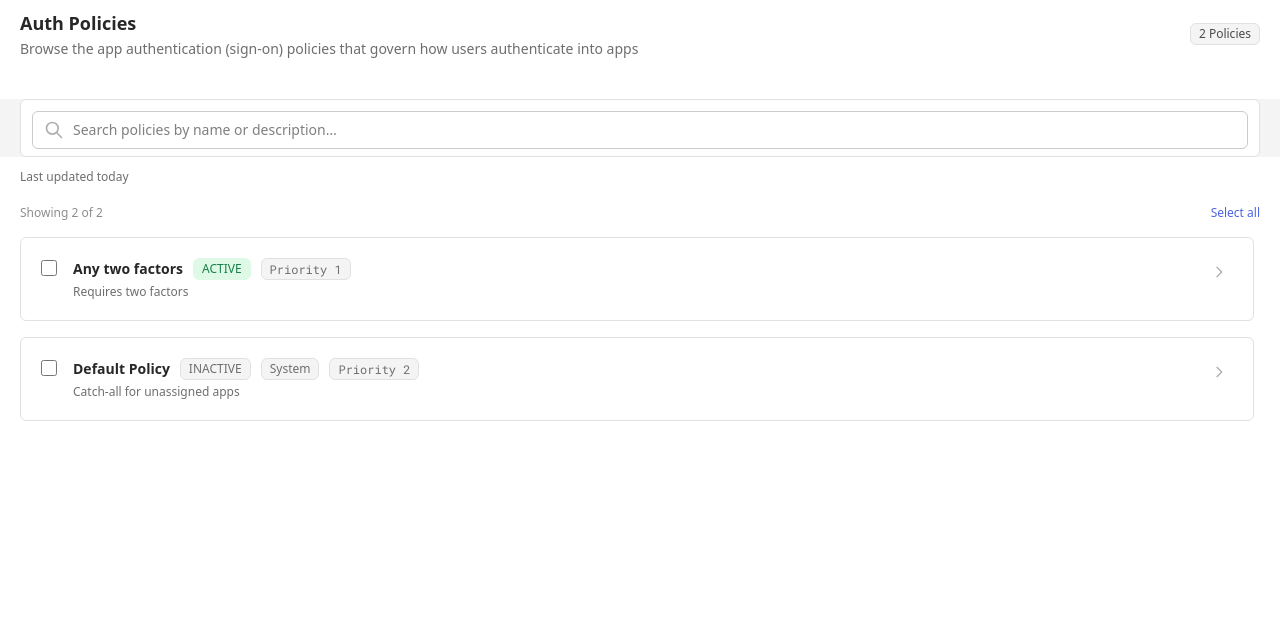
AuthPoliciesTab › lazily fetches a policy’s rules on expand and caches them for re-expansion
Expected: the heading "Any two factors" is shown, [73,259,183,279]
Click the button named "Show rules for Any two factors". click: {"x": 1219, "y": 272}
box: [1205,258,1233,286]
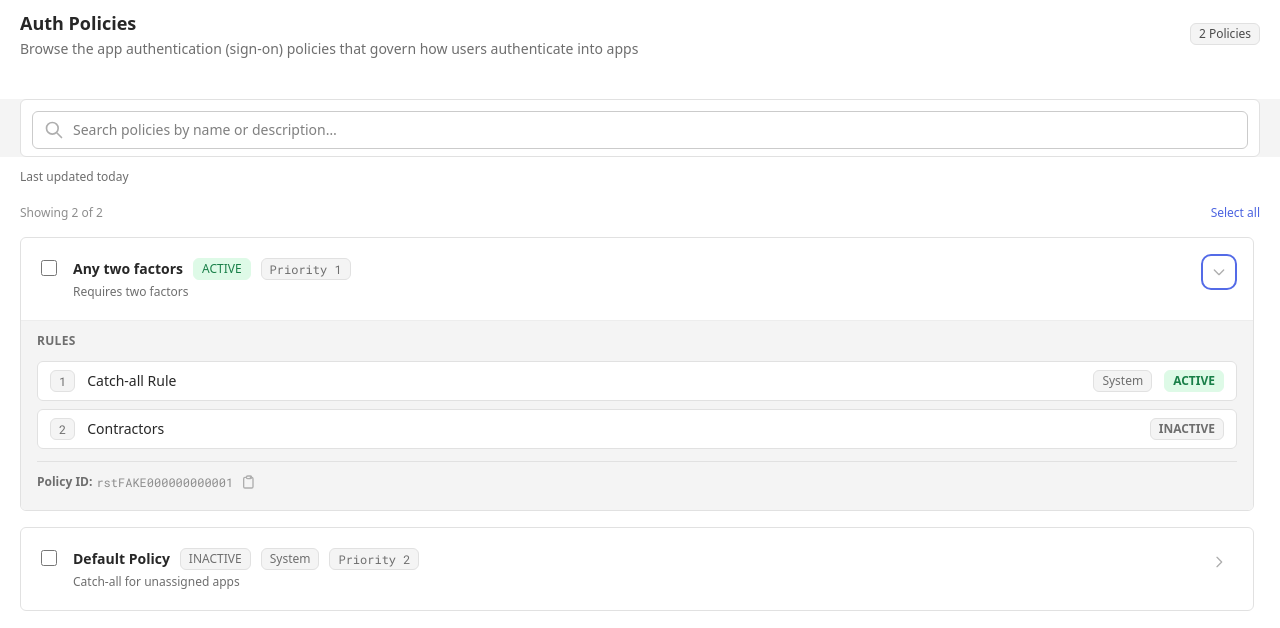
Now the text "Catch-all Rule" is shown, box [87,371,176,390]
Now the text "Contractors" is shown, box [87,419,164,438]
Click the button named "Hide rules for Any two factors". click: {"x": 1219, "y": 272}
box: [1205,258,1233,286]
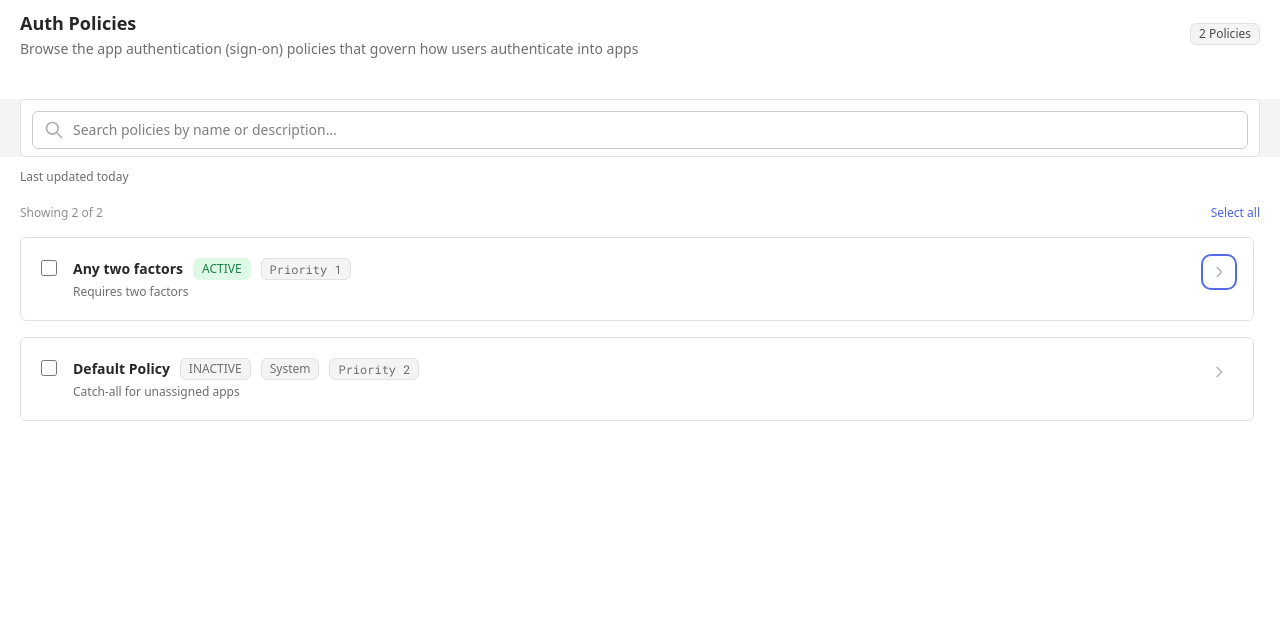
Click the button named "Show rules for Any two factors". click: {"x": 1219, "y": 272}
box: [1205,258,1233,286]
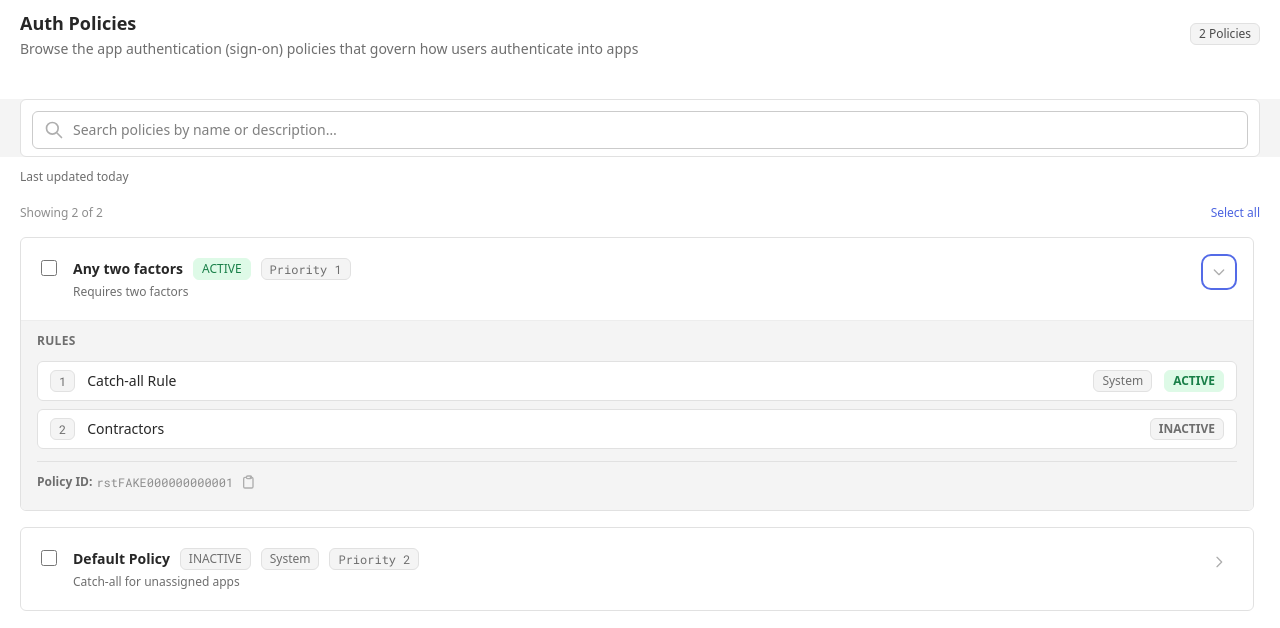
Now the list with test id "policy-rules-list" is shown, box [37,361,1237,449]
